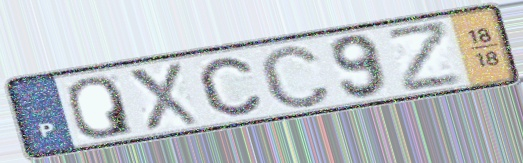9: (327, 32, 391, 100)
C: (256, 42, 335, 111), (196, 55, 265, 118)
Q: (64, 74, 137, 141)
X: (123, 61, 203, 134)
Z: (384, 17, 466, 94)
